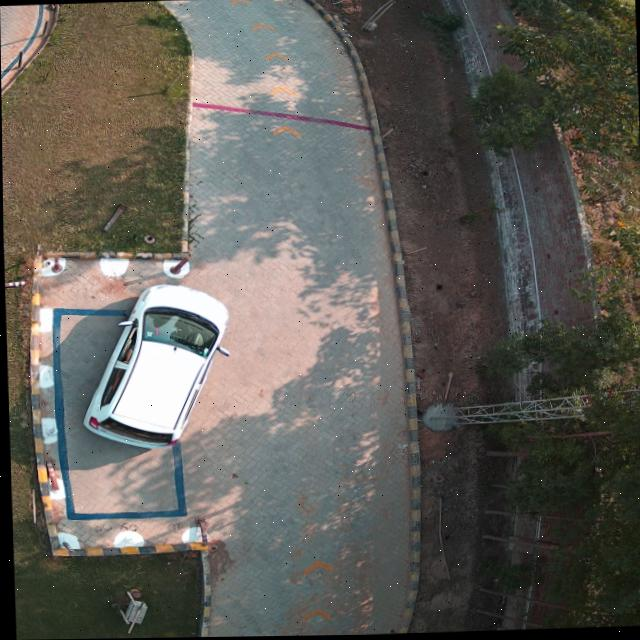car: (82, 285, 226, 449)
